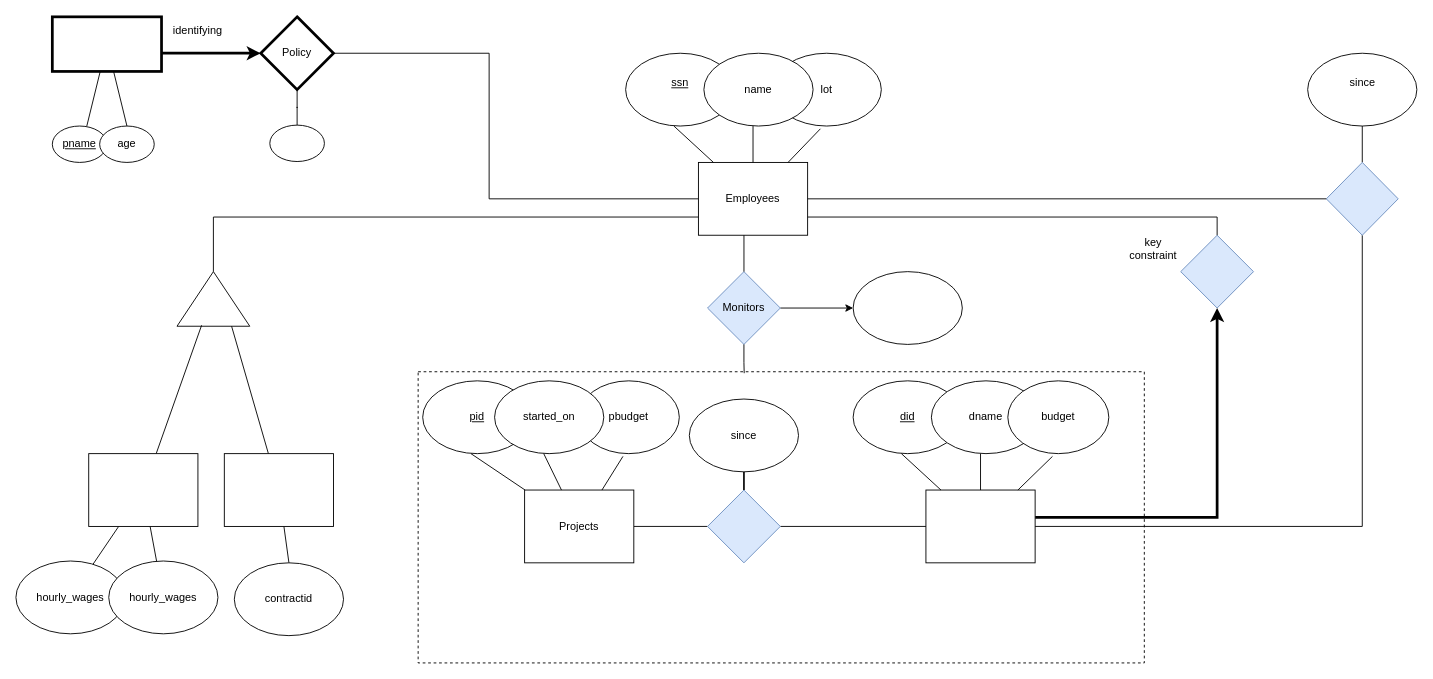
The diagram is 1433 pixels wide and 679 high, and some of its shapes have lost their labels. Each missing label, with the box of its shape:
contract_Empls: (223, 453, 334, 526)
cost: (269, 124, 324, 162)
Departments: (925, 489, 1035, 563)
Depedents: (51, 15, 162, 72)
hourly_Emps: (88, 453, 198, 526)
ISA: (176, 271, 250, 326)
Manages: (1180, 234, 1254, 308)
Sponsors: (707, 489, 780, 563)
until: (852, 271, 962, 344)
Works_In: (1325, 162, 1398, 235)
